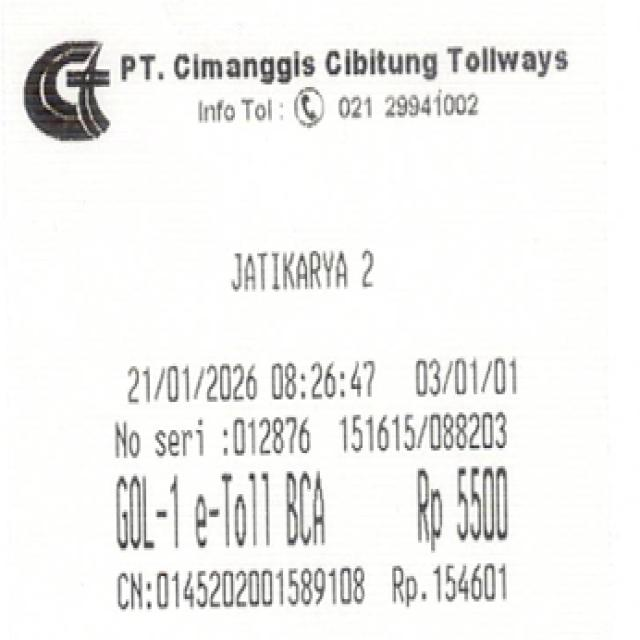date: (128, 361, 379, 401)
store: (109, 40, 573, 80)
total: (400, 457, 517, 548)
